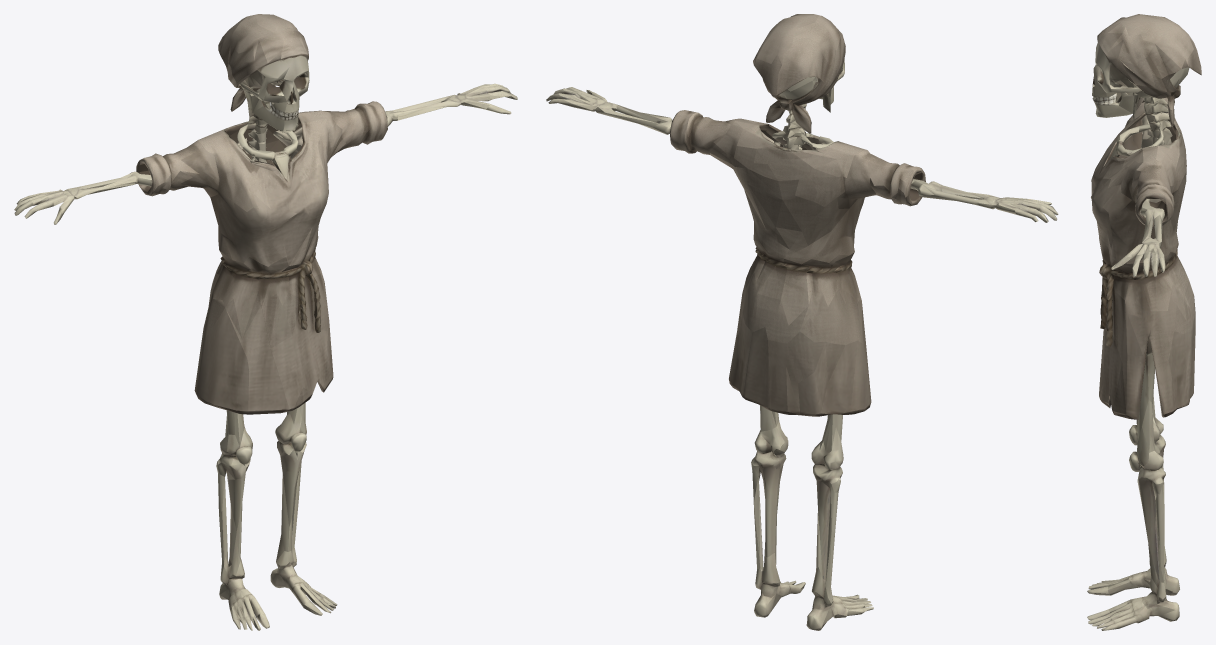
Rendered from skeleton_f.glb.
3 renders of one model, left to right at view 1: azimuth 30°, elevation 25°; view 2: azimuth 150°, elevation 25°; view 3: azimuth 270°, elevation 25°, orthographic.
Visible parts, largest first — view 1: SkeletonF; view 2: SkeletonF; view 3: SkeletonF.
Part boxes in pixels (box(x1,y1,x2,y2)): SkeletonF: box(14, 14, 517, 630); SkeletonF: box(546, 14, 1058, 630); SkeletonF: box(1087, 14, 1201, 630).
Size of the model in its own units: 1.52 by 1.7 by 0.3.
1 material, 1 textured.
